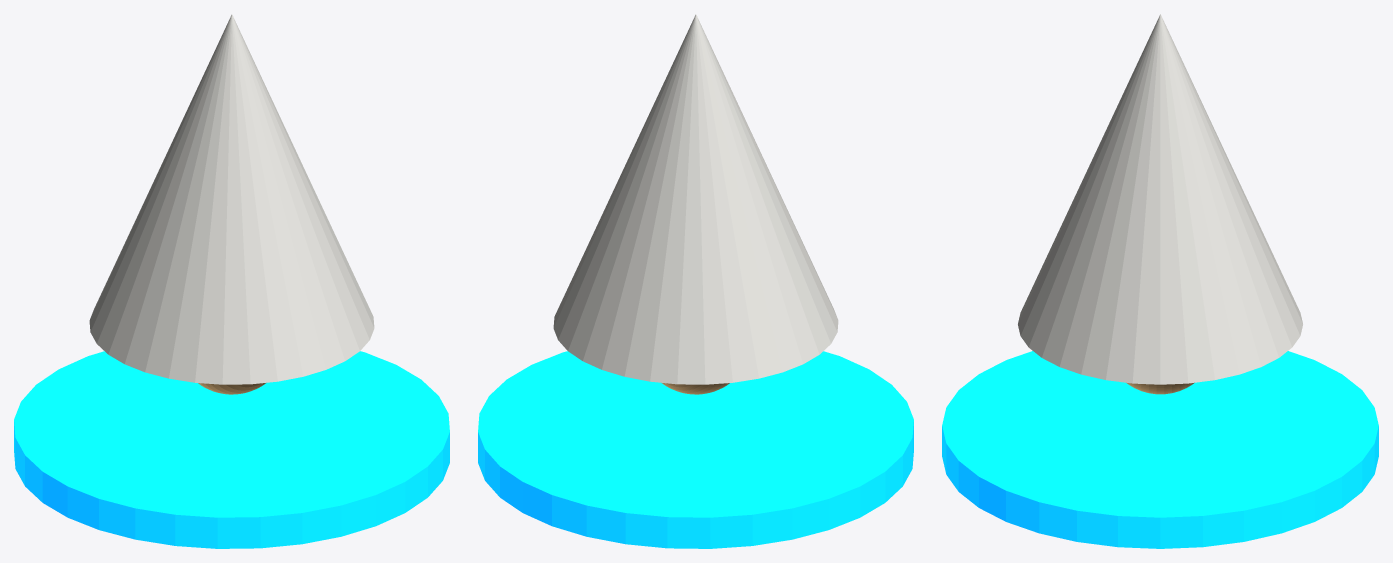
Rendered from sports_shuttlecock.glb.
3 renders of one model, left to right at view 1: azimuth 30°, elevation 25°; view 2: azimuth 150°, elevation 25°; view 3: azimuth 270°, elevation 25°, orthographic.
Parts seen in each view (by area): view 1: 04_10_Popular_Sports_Shuttlecock_ROOT_base, 04_10_Popular_Sports_Shuttlecock_part_01; view 2: 04_10_Popular_Sports_Shuttlecock_ROOT_base, 04_10_Popular_Sports_Shuttlecock_part_01; view 3: 04_10_Popular_Sports_Shuttlecock_ROOT_base, 04_10_Popular_Sports_Shuttlecock_part_01.
Part boxes in pixels (<box>): 04_10_Popular_Sports_Shuttlecock_ROOT_base: <box>14,351,449,548</box>; 04_10_Popular_Sports_Shuttlecock_part_01: <box>89,14,374,384</box>; 04_10_Popular_Sports_Shuttlecock_ROOT_base: <box>478,351,913,548</box>; 04_10_Popular_Sports_Shuttlecock_part_01: <box>553,14,838,384</box>; 04_10_Popular_Sports_Shuttlecock_ROOT_base: <box>942,351,1378,548</box>; 04_10_Popular_Sports_Shuttlecock_part_01: <box>1018,14,1302,384</box>.
Size of the model in its own units: 0.76 by 0.85 by 0.76.
